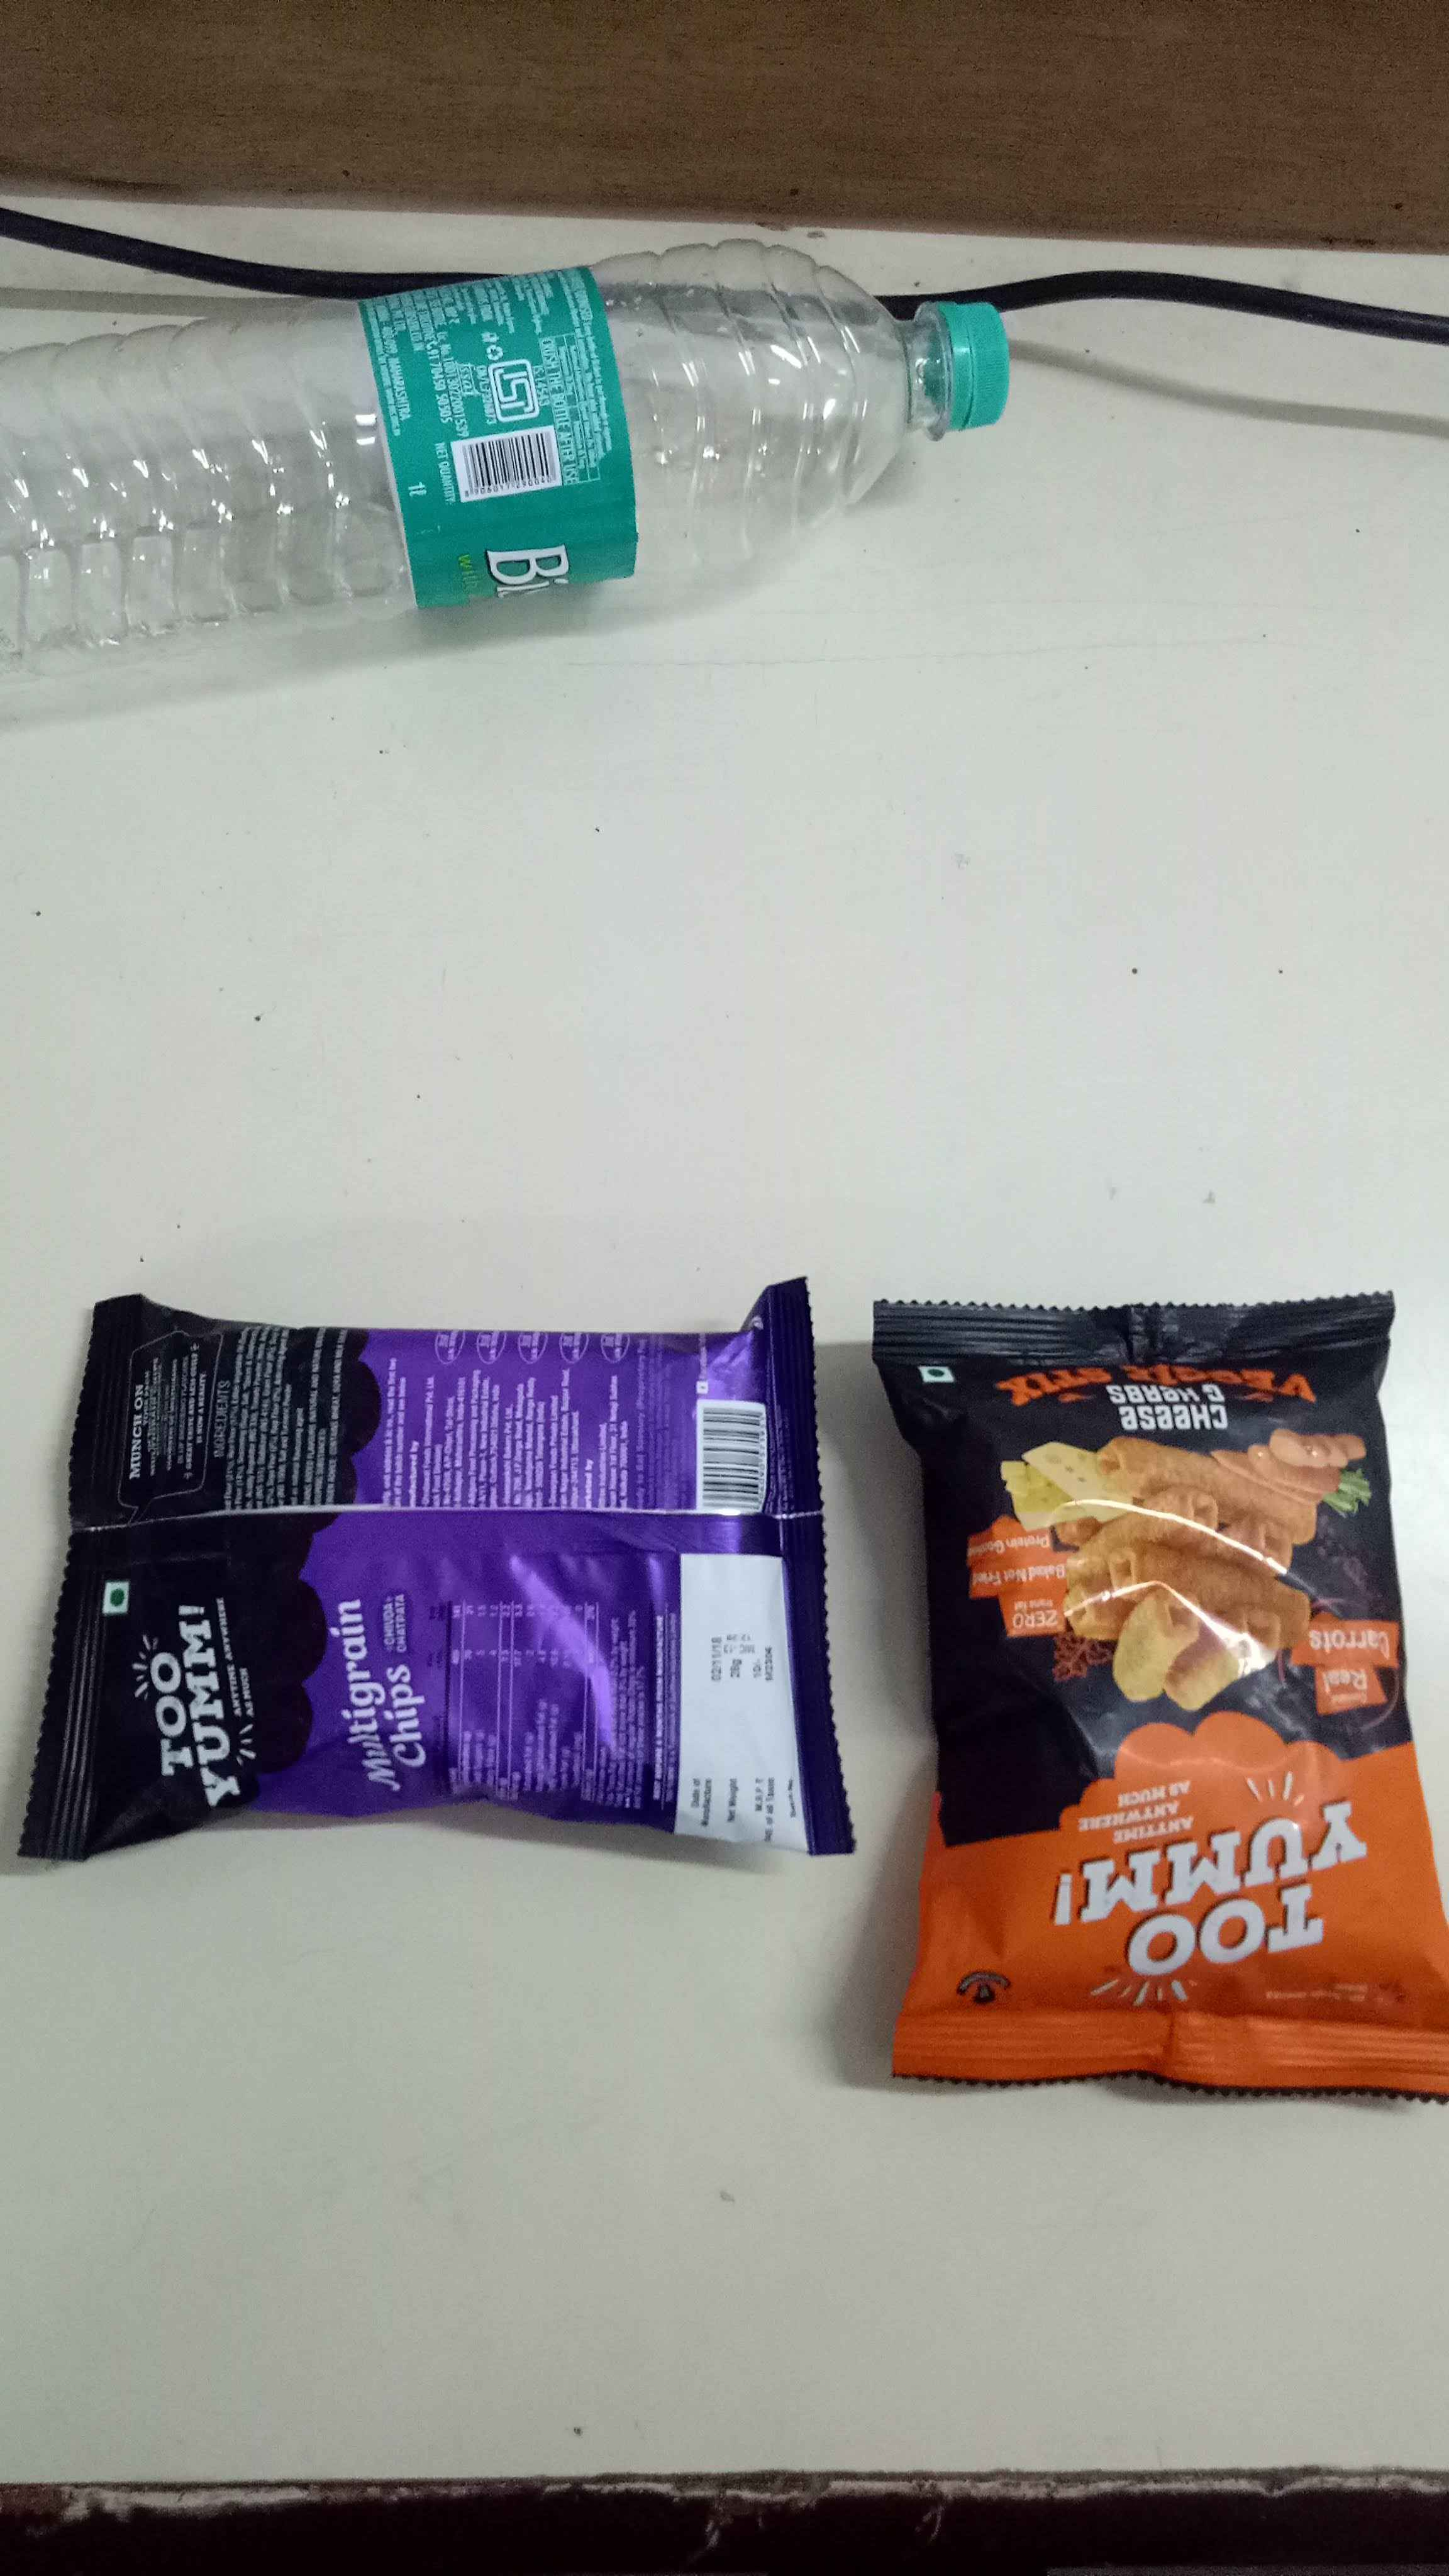Bisleri: (421, 331, 642, 602)
tooyumm: (1031, 1785, 1380, 1989), (126, 1585, 276, 1789)
